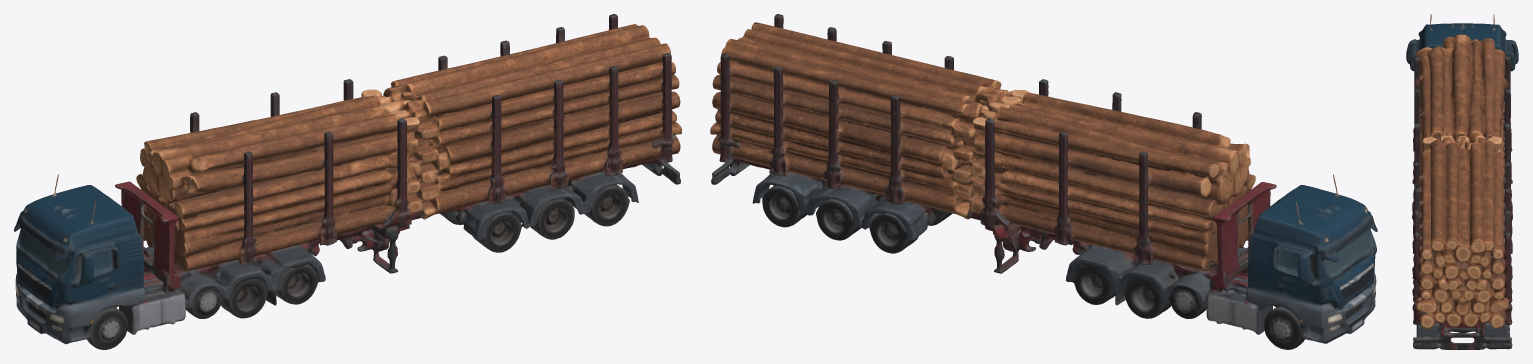
Rendered from loggingtruck.glb.
3 views of the same model, side by side, from view 1: azimuth 30°, elevation 25°; view 2: azimuth 150°, elevation 25°; view 3: azimuth 270°, elevation 25° (orthographic). The views are drawn at different scales.
Bounding box in the file's own units: 1.9 × 0.4855 × 0.3514.
Materials: 1 (1 with a texture image).
